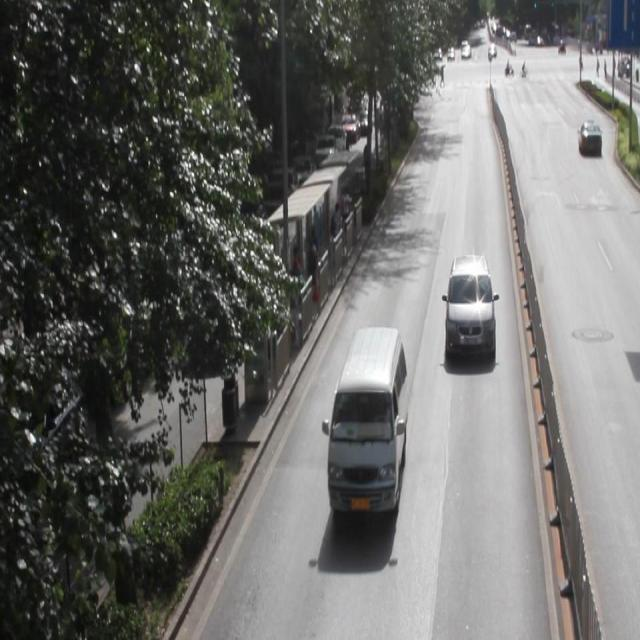car: (325, 324, 409, 528), (440, 250, 502, 366), (573, 115, 607, 161), (445, 49, 456, 65), (460, 47, 471, 62), (487, 44, 498, 58)
